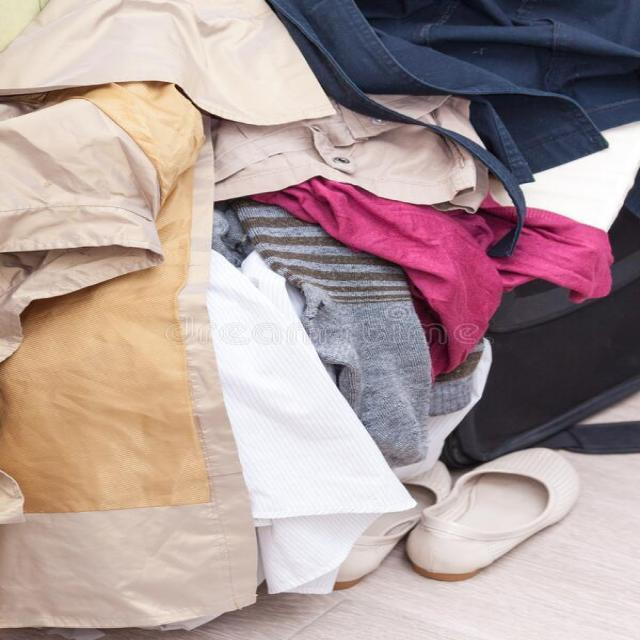clothes: (0, 0, 311, 640), (314, 3, 640, 408)
